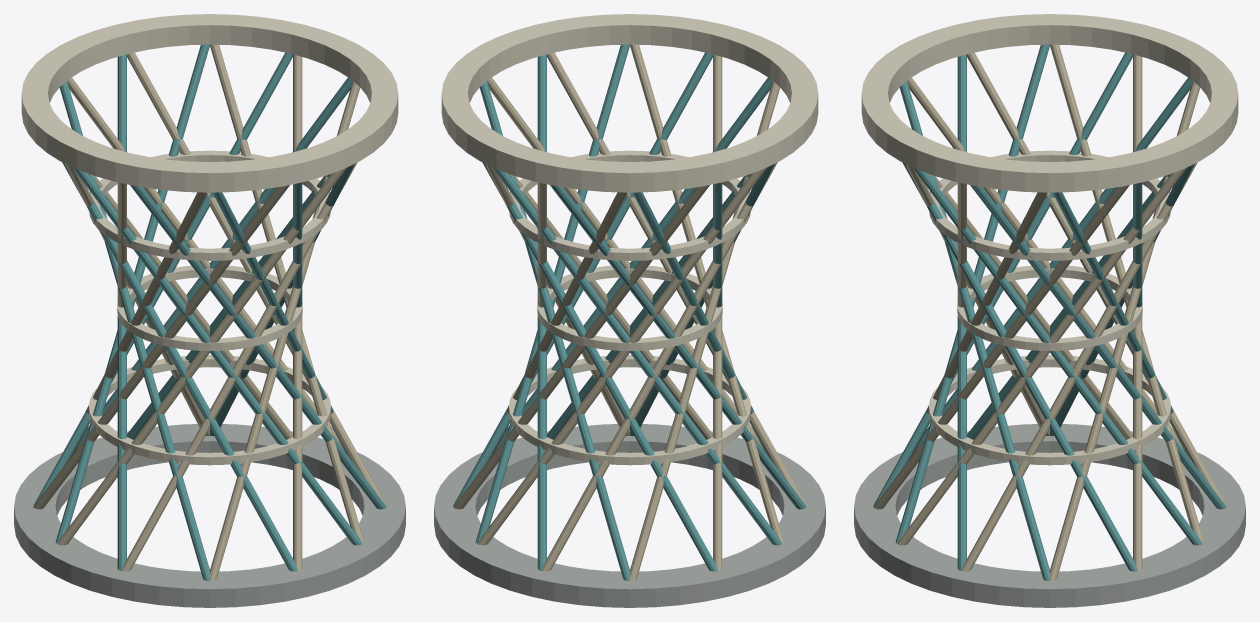
The picture shows the model from 3 angles, left to right: view 1: azimuth 30°, elevation 25°; view 2: azimuth 150°, elevation 25°; view 3: azimuth 270°, elevation 25°; orthographic projection.
Visible parts, largest first — view 1: WholeCompleteAnnularCrown, WholeBroadAnnularGroundFoot, WholeIntermediateAnnularTie0, WholeIntermediateAnnularTie2, WholeStraightGeneratorFamily0Member10, WholeStraightGeneratorFamily1Member6, WholeIntermediateAnnularTie1, WholeStraightGeneratorFamily0Member9, WholeStraightGeneratorFamily1Member5, WholeStraightGeneratorFamily0Member11, WholeStraightGeneratorFamily1Member7, WholeStraightGeneratorFamily0Member8 (+17 smaller); view 2: WholeCompleteAnnularCrown, WholeBroadAnnularGroundFoot, WholeIntermediateAnnularTie0, WholeIntermediateAnnularTie2, WholeStraightGeneratorFamily1Member2, WholeStraightGeneratorFamily0Member6, WholeIntermediateAnnularTie1, WholeStraightGeneratorFamily1Member3, WholeStraightGeneratorFamily0Member7, WholeStraightGeneratorFamily1Member1, WholeStraightGeneratorFamily0Member5, WholeStraightGeneratorFamily1Member4 (+17 smaller); view 3: WholeCompleteAnnularCrown, WholeBroadAnnularGroundFoot, WholeIntermediateAnnularTie0, WholeIntermediateAnnularTie2, WholeStraightGeneratorFamily0Member2, WholeStraightGeneratorFamily1Member10, WholeIntermediateAnnularTie1, WholeStraightGeneratorFamily0Member1, WholeStraightGeneratorFamily1Member11, WholeStraightGeneratorFamily0Member0, WholeStraightGeneratorFamily1Member0, WholeStraightGeneratorFamily0Member3 (+17 smaller).
Part boxes in pixels (left/top/right/bottom): WholeCompleteAnnularCrown: left=21, top=14, right=398, bottom=192; WholeBroadAnnularGroundFoot: left=14, top=424, right=405, bottom=607; WholeIntermediateAnnularTie0: left=89, top=355, right=330, bottom=465; WholeIntermediateAnnularTie2: left=89, top=150, right=330, bottom=260; WholeStraightGeneratorFamily0Member10: left=72, top=167, right=362, bottom=545; WholeStraightGeneratorFamily1Member6: left=57, top=167, right=347, bottom=545; WholeIntermediateAnnularTie1: left=117, top=265, right=302, bottom=350; WholeStraightGeneratorFamily0Member9: left=62, top=162, right=297, bottom=571; WholeStraightGeneratorFamily1Member5: left=33, top=185, right=289, bottom=509; WholeStraightGeneratorFamily0Member11: left=130, top=185, right=386, bottom=509; WholeStraightGeneratorFamily1Member7: left=122, top=162, right=357, bottom=571; WholeStraightGeneratorFamily0Member8: left=59, top=81, right=210, bottom=580; WholeCompleteAnnularCrown: left=441, top=14, right=818, bottom=192; WholeBroadAnnularGroundFoot: left=434, top=424, right=825, bottom=607; WholeIntermediateAnnularTie0: left=509, top=355, right=750, bottom=465; WholeIntermediateAnnularTie2: left=509, top=150, right=750, bottom=260; WholeStraightGeneratorFamily1Member2: left=477, top=167, right=767, bottom=545; WholeStraightGeneratorFamily0Member6: left=492, top=167, right=782, bottom=545; WholeIntermediateAnnularTie1: left=537, top=265, right=722, bottom=350; WholeStraightGeneratorFamily1Member3: left=542, top=162, right=777, bottom=571; WholeStraightGeneratorFamily0Member7: left=550, top=185, right=806, bottom=509; WholeStraightGeneratorFamily1Member1: left=453, top=185, right=709, bottom=509; WholeStraightGeneratorFamily0Member5: left=482, top=162, right=717, bottom=571; WholeStraightGeneratorFamily1Member4: left=629, top=81, right=780, bottom=580; WholeCompleteAnnularCrown: left=861, top=14, right=1238, bottom=192; WholeBroadAnnularGroundFoot: left=854, top=424, right=1245, bottom=607; WholeIntermediateAnnularTie0: left=929, top=355, right=1170, bottom=465; WholeIntermediateAnnularTie2: left=929, top=150, right=1170, bottom=260; WholeStraightGeneratorFamily0Member2: left=913, top=167, right=1202, bottom=545; WholeStraightGeneratorFamily1Member10: left=897, top=167, right=1186, bottom=545; WholeIntermediateAnnularTie1: left=957, top=265, right=1142, bottom=350; WholeStraightGeneratorFamily0Member1: left=902, top=162, right=1137, bottom=571; WholeStraightGeneratorFamily1Member11: left=962, top=162, right=1197, bottom=571; WholeStraightGeneratorFamily0Member0: left=899, top=81, right=1049, bottom=580; WholeStraightGeneratorFamily1Member0: left=1050, top=81, right=1200, bottom=580; WholeStraightGeneratorFamily0Member3: left=970, top=185, right=1226, bottom=509.
Size of the model in its own units: 4.92 by 5.98 by 4.92.
